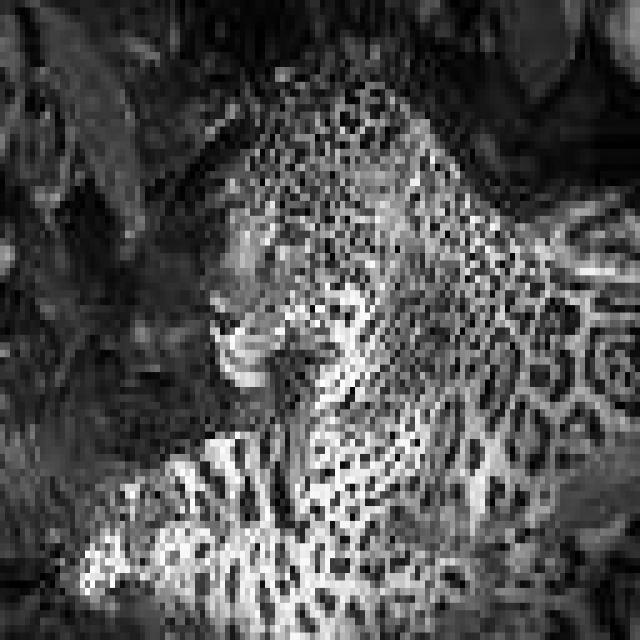Leopard: (163, 71, 609, 640)
